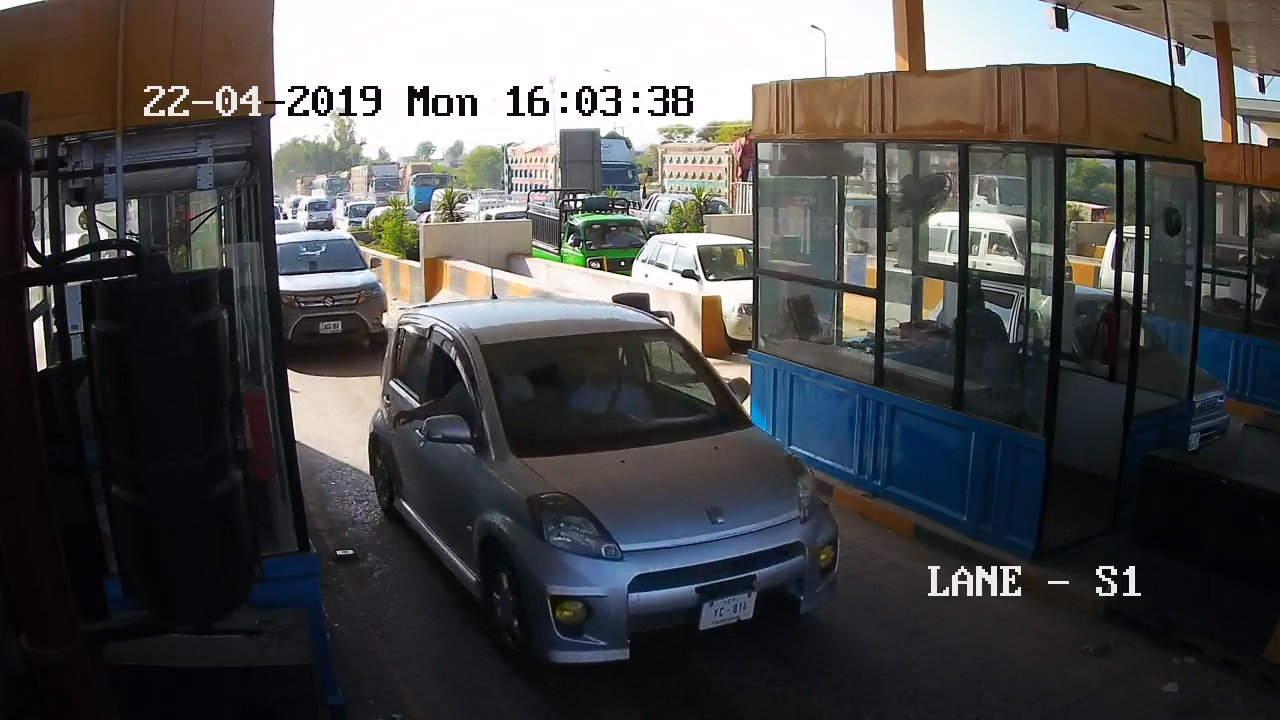Number Plate (Car): (698, 593, 758, 627), (319, 321, 343, 334)
